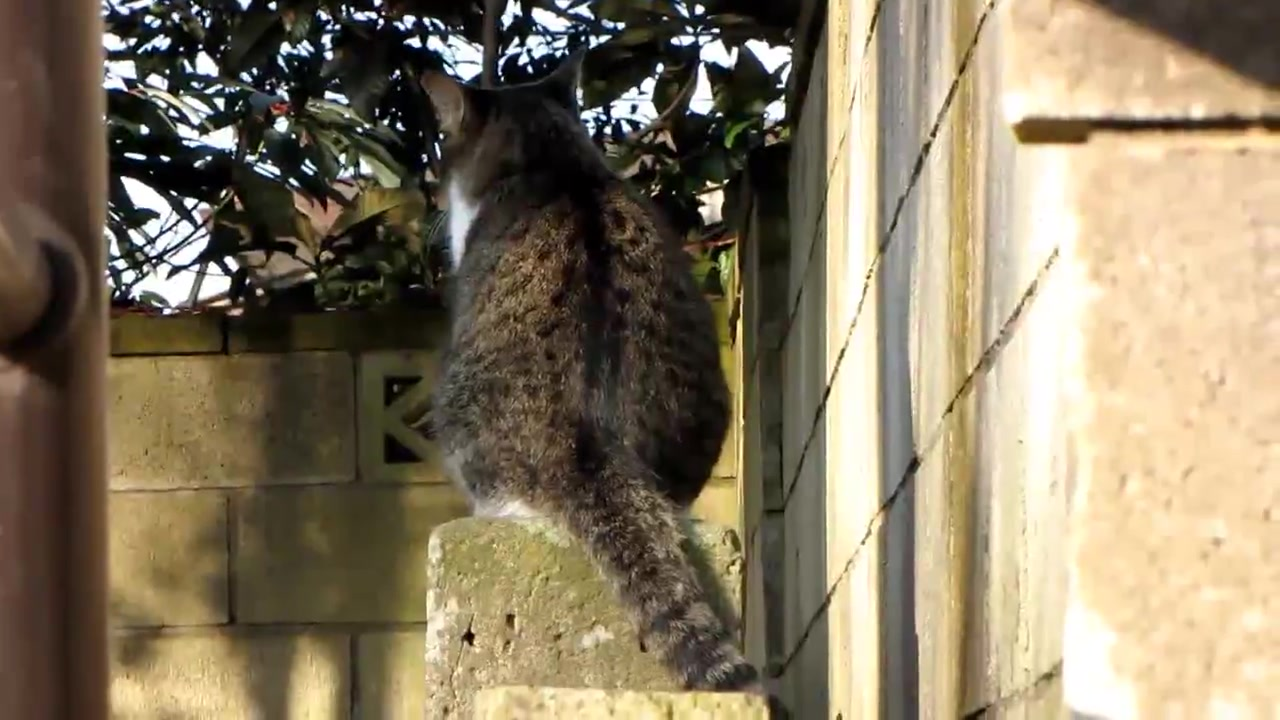cat: (415, 60, 755, 687)
